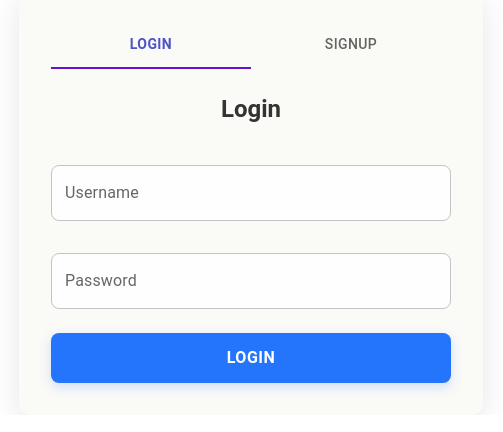
Test: Login Component › Error si los campos estan vacios
Click the button with test id "login-button".
click(251, 358)  # box [51,333,451,383]
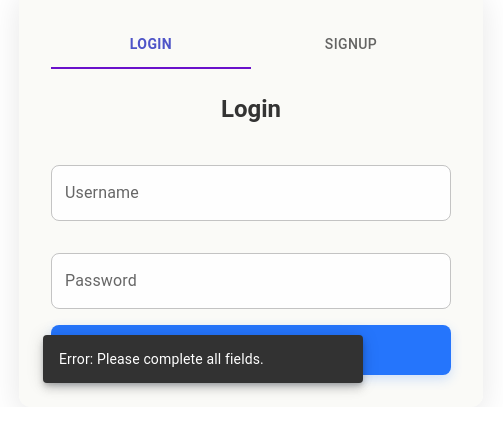
Check: the text "Error: Please complete all fields." is shown, box [59,351,264,367]
